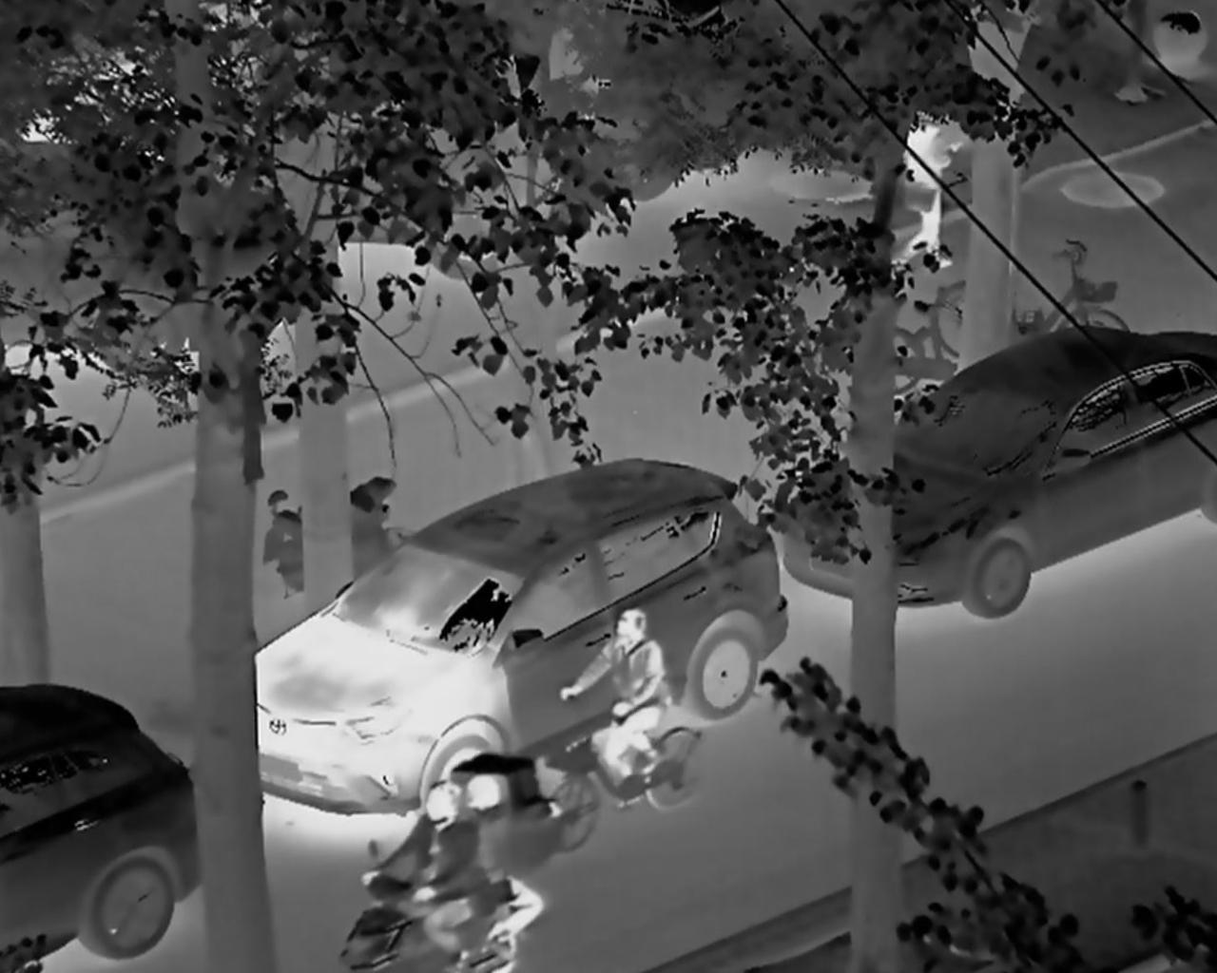person: (560, 600, 700, 841), (359, 768, 476, 973), (448, 768, 549, 973), (880, 85, 958, 285)
